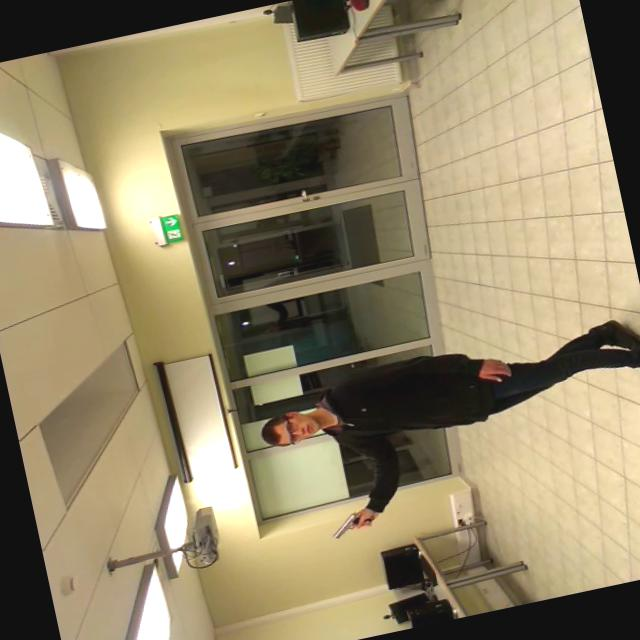handgun: (316, 498, 387, 548)
